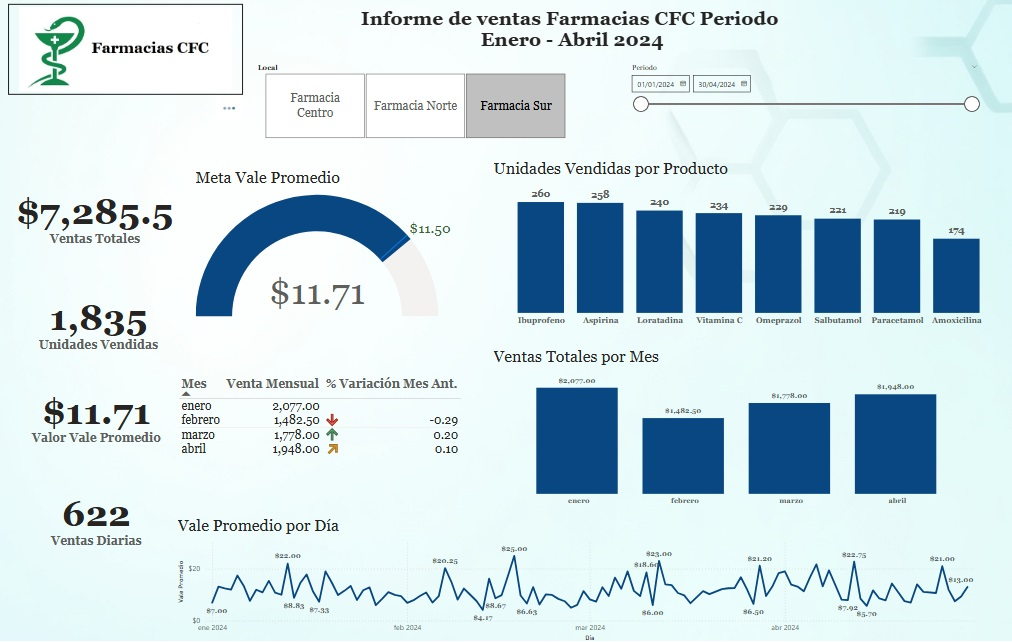

Layout of this report page (visuals, bound fields, positions):
{"tool":"powerbi","page":{"name":"Página 1","canvas":[1700,1100],"ordinal":0},"visuals":[{"type":"card","fields":{"Values":["ventas.Total_Ventas"]},"box":[0,284.6,324.9,163.4],"z":0},{"type":"card","fields":{"Values":["ventas.Unidades_Totales"]},"box":[18.4,454.1,299.9,177.5],"z":1000},{"type":"clusteredColumnChart","title":"Unidades Vendidas por Producto","fields":{"Category":["ventas.Producto"],"Y":["Sum(ventas.Cantidad)"]},"box":[820.1,273.4,858.9,283.6],"z":2000},{"type":"slicer","fields":{"Values":["ventas.Local"]},"box":[420.3,108.1,548.8,136.7],"z":3000},{"type":"slicer","fields":{"Values":["ventas.Fecha_Venta"]},"box":[1042.5,108.1,599.8,136.7],"z":4000},{"type":"clusteredColumnChart","fields":{"Y":["ventas.Total_Ventas"],"Category":["Calendario.Date.Variación.Jerarquía de fechas.Mes"]},"box":[820.1,585.5,822.2,271.3],"z":5000},{"type":"lineChart","fields":{"Y":["ventas.Vale_Promedio"],"Category":["Calendario.Date"]},"box":[295.8,867.1,1346.5,212.2],"z":6000},{"type":"card","fields":{"Values":["ventas.Vale_Promedio"]},"box":[40.8,618.2,248.9,159.1],"z":7000},{"type":"card","fields":{"Values":["ventas.Ventas_por_dia"]},"box":[40.8,787.5,248.9,161.2],"z":8000},{"type":"tableEx","fields":{"Values":["Calendario.Date.Variación.Jerarquía de fechas.Mes","Sum(ventas.Total_Venta)","ventas.% Variación Ventas Mes Anterior"]},"box":[295.8,630.4,524.3,226.5],"z":9000},{"type":"gauge","title":"Meta Vale Promedio","fields":{"Y":["ventas.Vale_Promedio"],"MinValue":["Calendario.Vale_prom_minimo"],"MaxValue":["Calendario.Vale_prom_max"],"TargetValue":["Calendario.vale_destino_prom"]},"box":[324.4,287.7,440.7,259.1],"z":10000},{"type":"textbox","box":[544.7,14.3,822.2,93.8],"z":11000},{"type":"image","box":[18.4,14.3,391.7,151],"z":12000}]}

Visuals, with their boxes in screenshot pixels (x1, y1, x2, y2), scaled from the page's 1700x1100 canvas onto the 1012x642 screenshot:
card - ventas.Total_Ventas: (x1=0, y1=166, x2=193, y2=261)
card - ventas.Unidades_Totales: (x1=11, y1=265, x2=189, y2=369)
"Unidades Vendidas por Producto" clusteredColumnChart: (x1=488, y1=160, x2=999, y2=325)
slicer - ventas.Local: (x1=250, y1=63, x2=577, y2=143)
slicer - ventas.Fecha_Venta: (x1=621, y1=63, x2=978, y2=143)
clusteredColumnChart - ventas.Total_Ventas x Calendario.Date.Variación.Jerarquía de fechas.Mes: (x1=488, y1=342, x2=978, y2=500)
lineChart - ventas.Vale_Promedio x Calendario.Date: (x1=176, y1=506, x2=978, y2=630)
card - ventas.Vale_Promedio: (x1=24, y1=361, x2=172, y2=454)
card - ventas.Ventas_por_dia: (x1=24, y1=460, x2=172, y2=554)
tableEx - Calendario.Date.Variación.Jerarquía de fechas.Mes x Sum(ventas.Total_Venta): (x1=176, y1=368, x2=488, y2=500)
"Meta Vale Promedio" gauge: (x1=193, y1=168, x2=455, y2=319)
textbox: (x1=324, y1=8, x2=814, y2=63)
image: (x1=11, y1=8, x2=244, y2=96)
